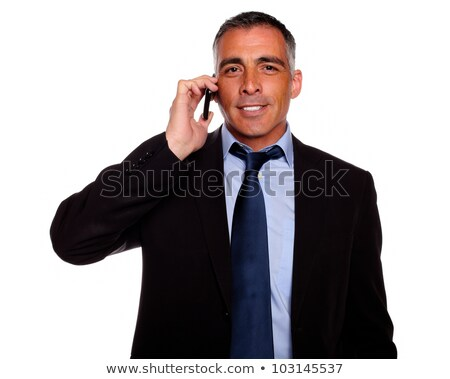phone: (182, 70, 219, 123)
talk: (166, 49, 288, 151)
